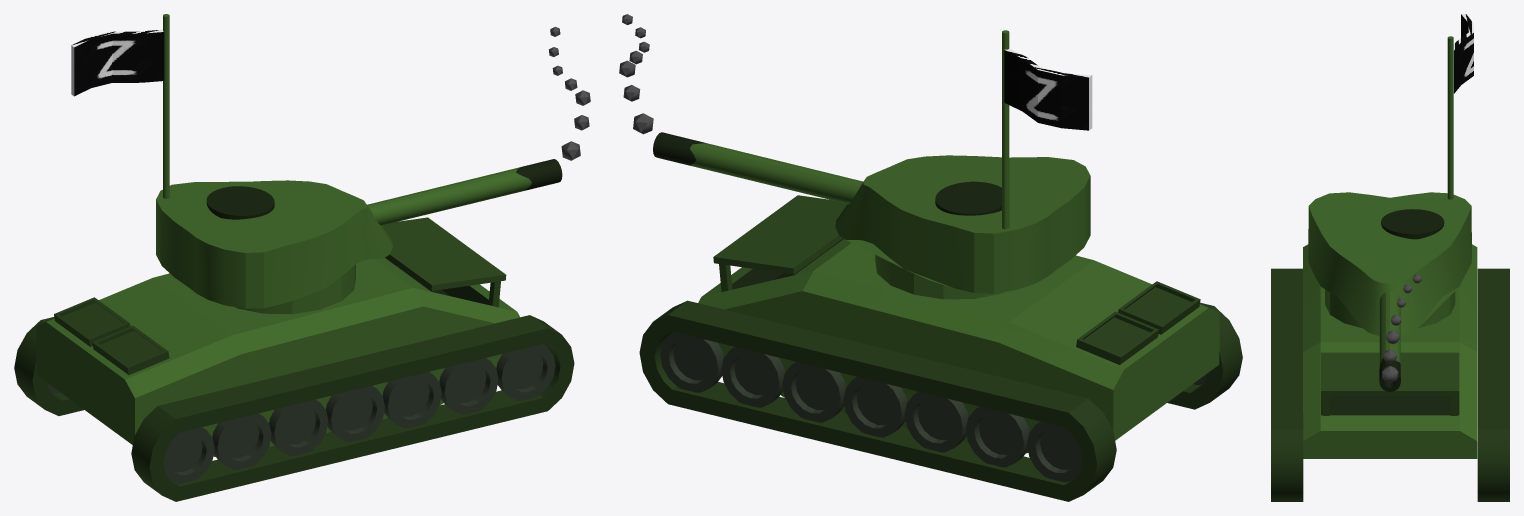
The model's file is tanknorm.fbx.
3 renders of one model, left to right at view 1: azimuth 30°, elevation 25°; view 2: azimuth 150°, elevation 25°; view 3: azimuth 270°, elevation 25°, orthographic. The views are drawn at different scales.
Visible parts, largest first — view 1: Cube.001; view 2: Cube.001; view 3: Cube.001.
Boxes of the visible parts, x1,y1,x2,y2 form: Cube.001: (14,14,590,501); Cube.001: (619,14,1242,501); Cube.001: (1271,14,1509,501).
Size of the model in its own units: 1189 by 869 by 547.
Materials: 9 (1 with a texture image).
